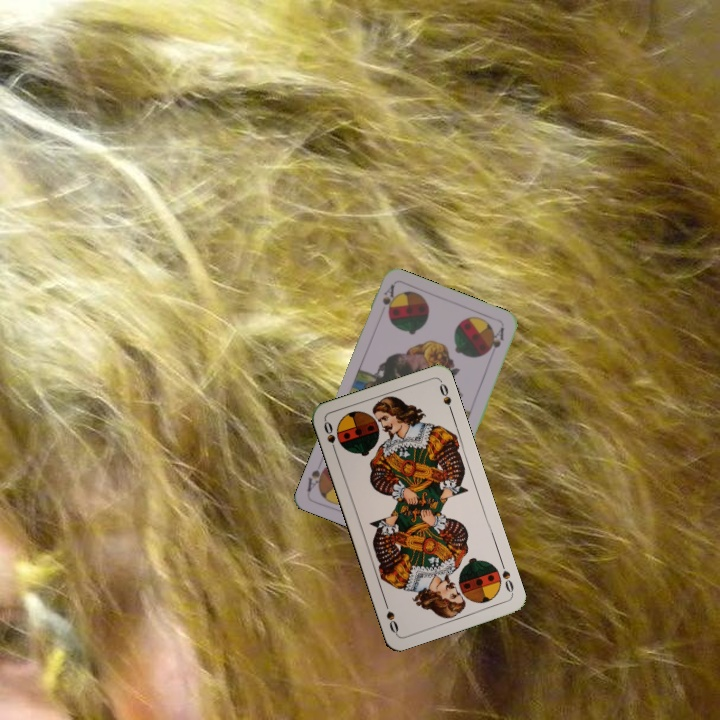SA: (378, 281, 397, 315)
SO: (320, 417, 340, 457), (496, 557, 516, 597)
